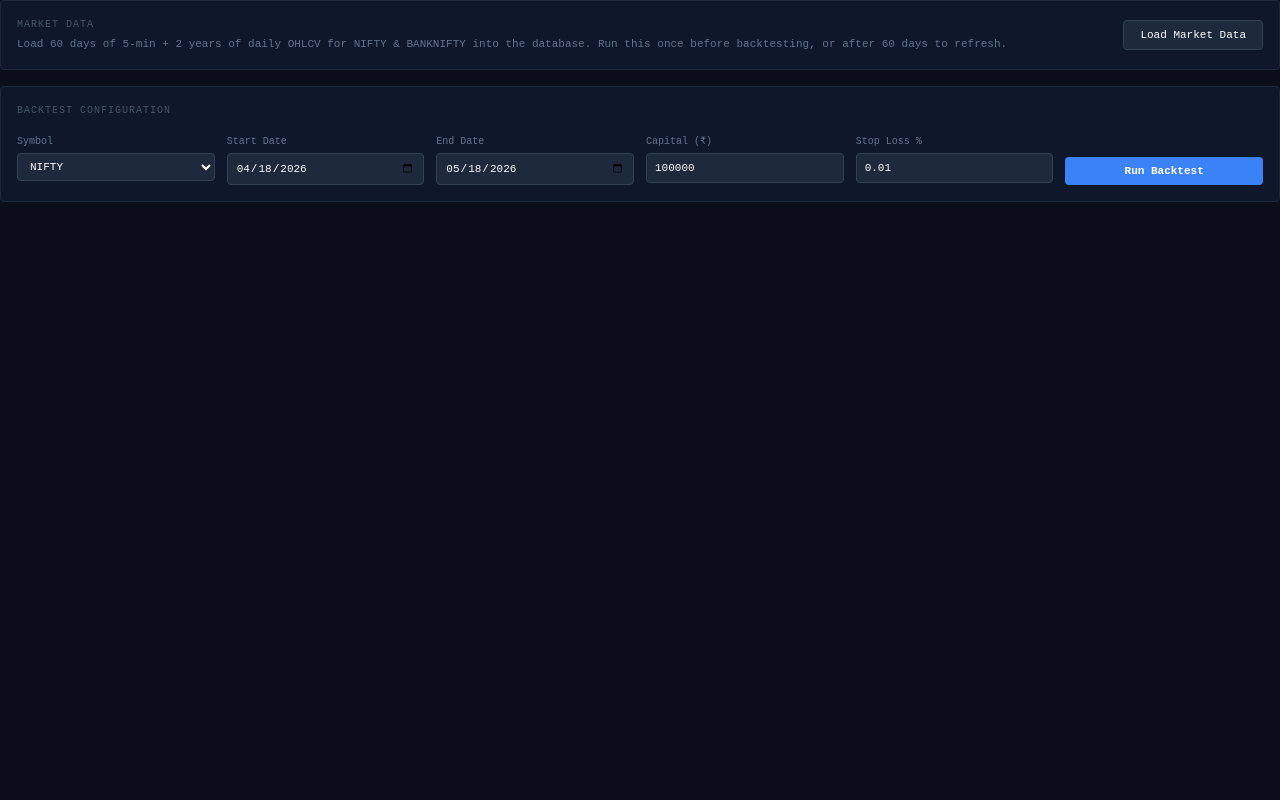
Test: BacktestTab › renders metrics and trade log after successful backtest
Click the button "Run Backtest" at (1164, 171), box [1065,156,1263,185]
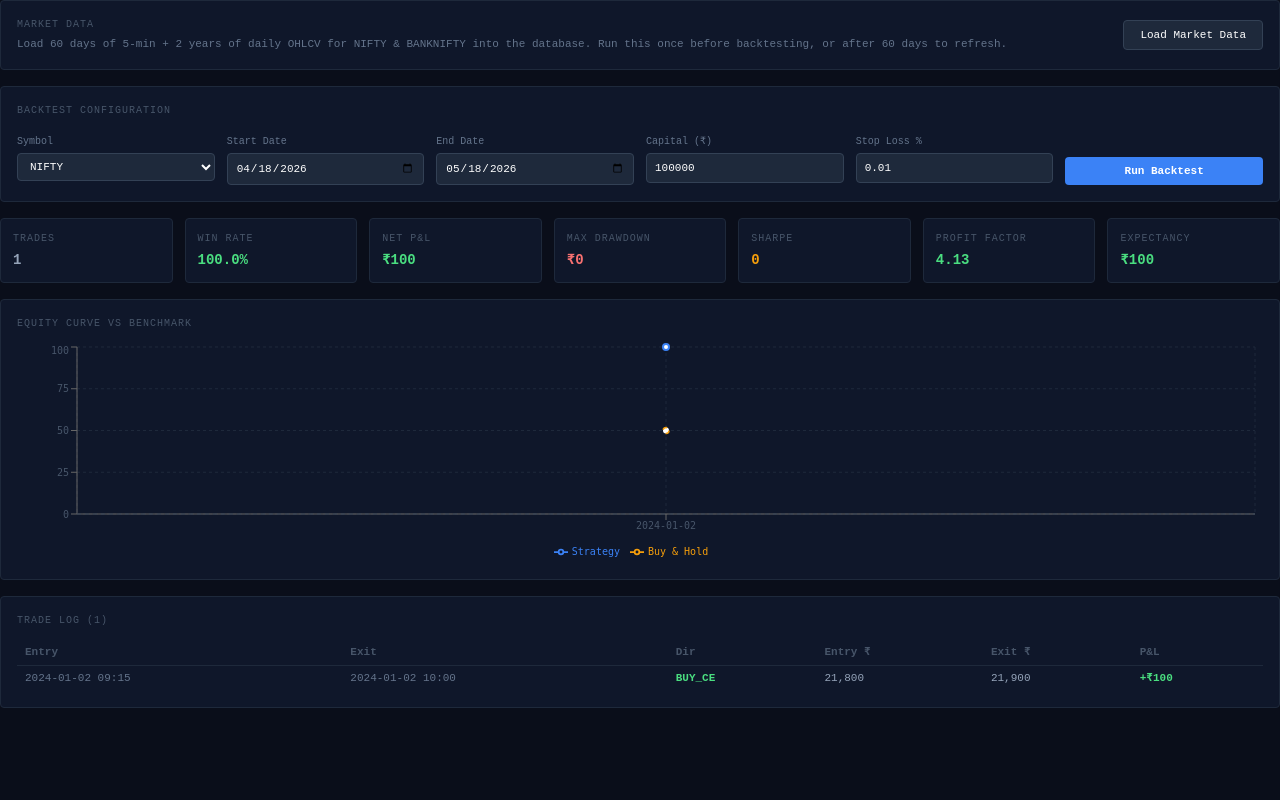
Result: the text "Trades" is shown at [13,233,55,244]
Result: the text "Win Rate" is shown at [198,233,254,244]
Result: the text "Net P&L" is shown at [382,233,431,244]
